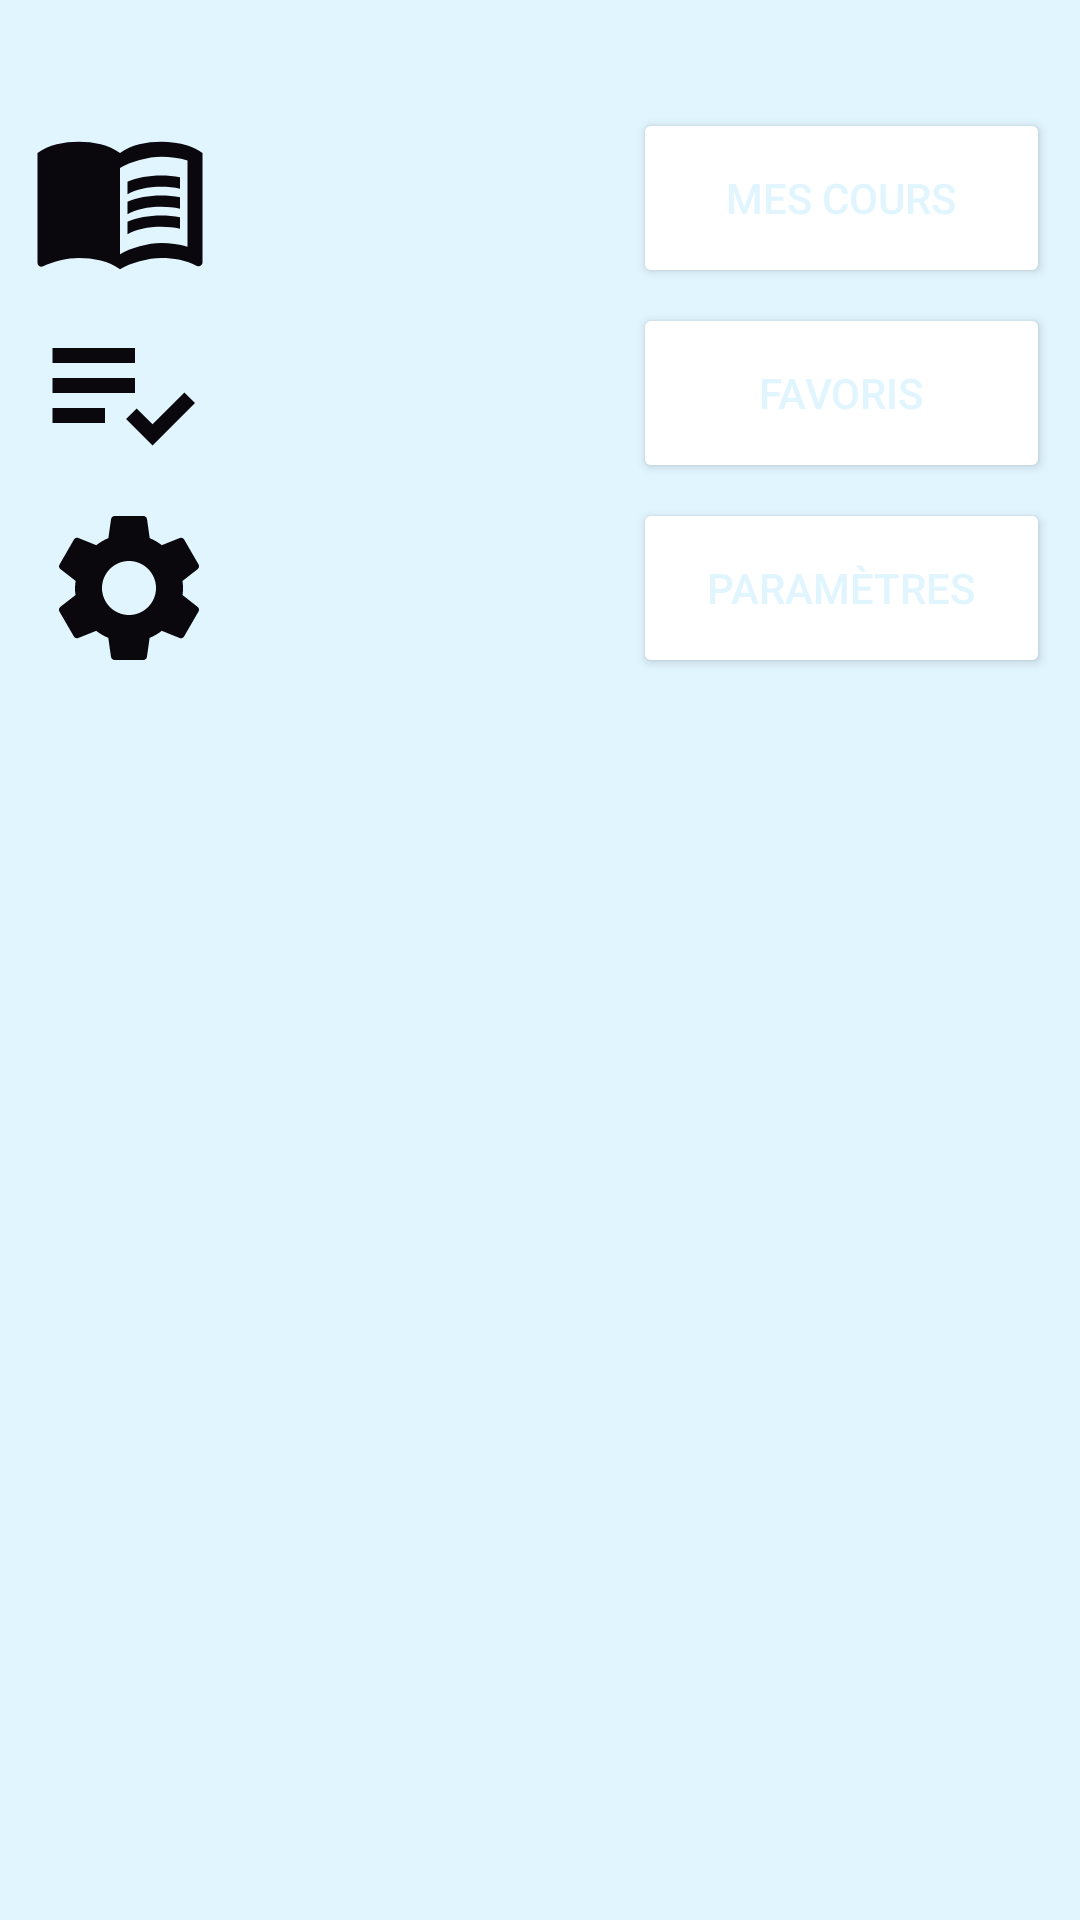

Where to tap for icons on this 1080x1920 app screen, as (x=x, y=y):
mescours: (x=120, y=205)
settings: (x=129, y=588)
